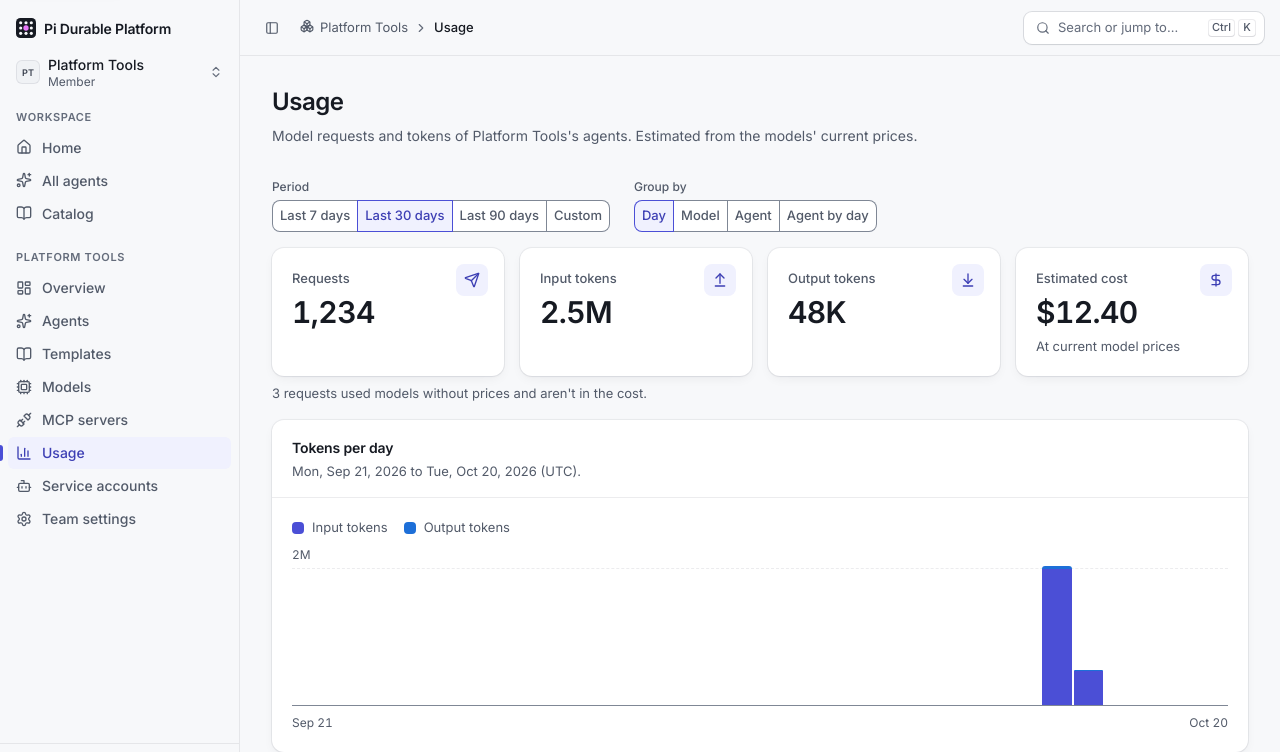
Test: Team › Usage › asks for the new grouping when Group by changes, and keeps it in the address
Expected: the picture named "Tokens per day: 2.5M in total" is shown, 292,546 -> 1228,706
What coordinates should you click on to do the following:
click the button "Agent"
I would click on:
 (753, 216)
Its box is 727,200 -> 780,232.
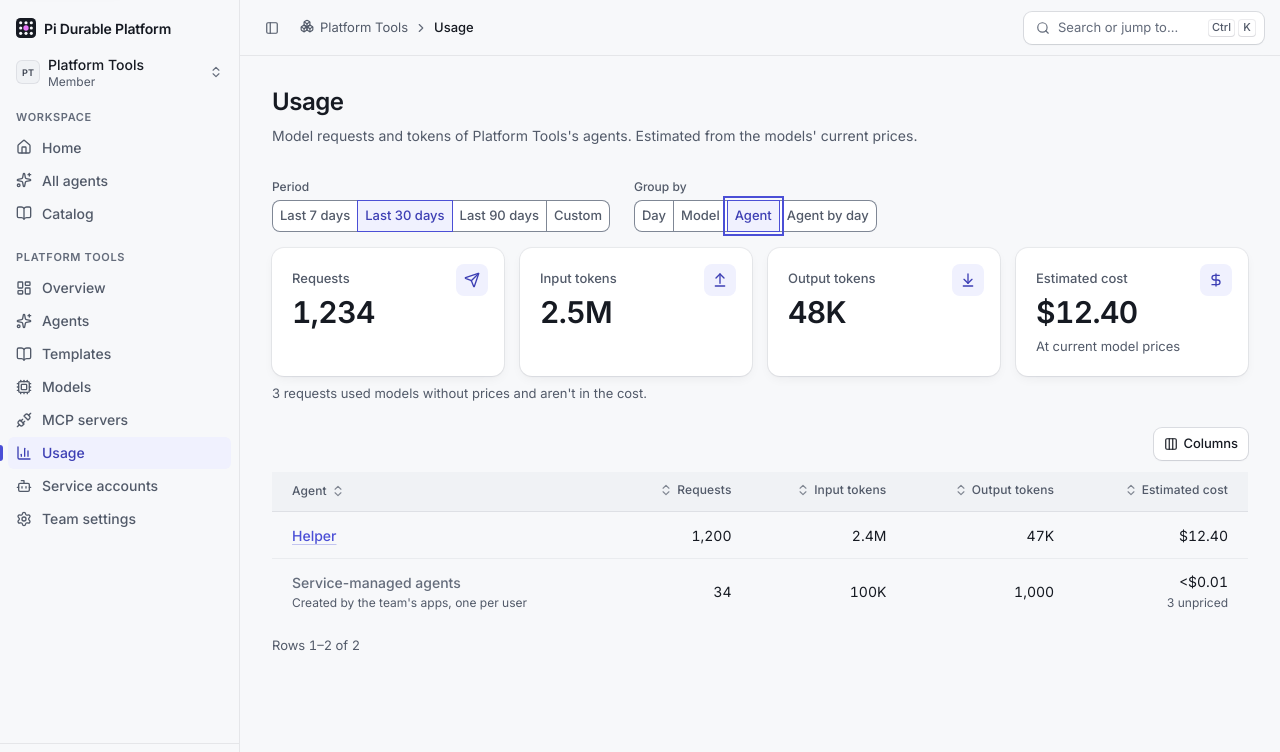
Expected: the text "Service-managed agents" is shown, 292,574 -> 461,591
Expected: the text "<$0.01" is shown, 1179,574 -> 1228,590
Expected: the heading "Tokens per day" is gone
